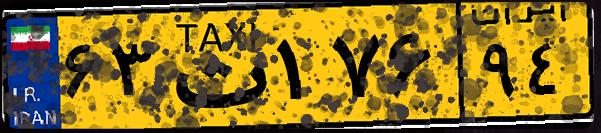1: (270, 28, 330, 110)
3: (110, 28, 158, 98)
4: (525, 38, 570, 115)
6: (385, 28, 445, 110), (57, 26, 110, 100)
7: (330, 28, 385, 110)
9: (475, 38, 525, 113)
ت: (158, 12, 270, 120)
